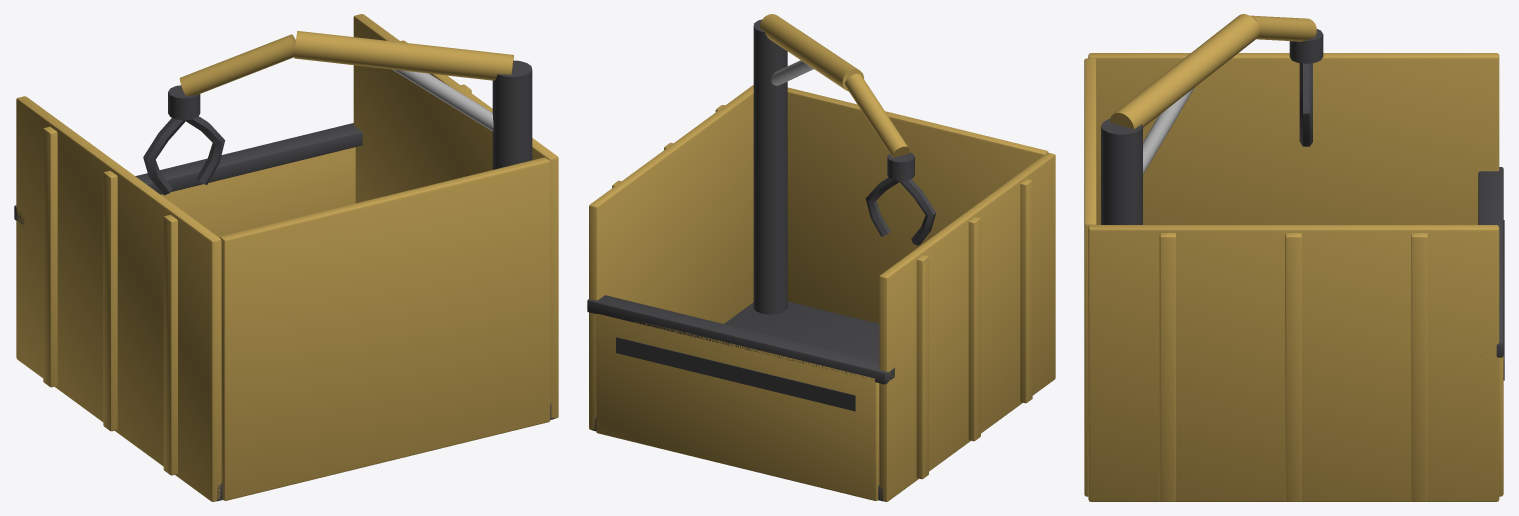
File: collector.glb
3 views of the same model, side by side, from view 1: azimuth 30°, elevation 25°; view 2: azimuth 150°, elevation 25°; view 3: azimuth 270°, elevation 25° (orthographic). The views are drawn at different scales.
Parts seen in each view (by area): view 1: Part; view 2: Part; view 3: Part.
Part boxes in pixels (x1,y1,x2,y2): Part: [14, 14, 558, 501]; Part: [587, 14, 1055, 501]; Part: [1084, 14, 1504, 501].
Bounding box in the file's own units: 1.04 × 1.05 × 1.
